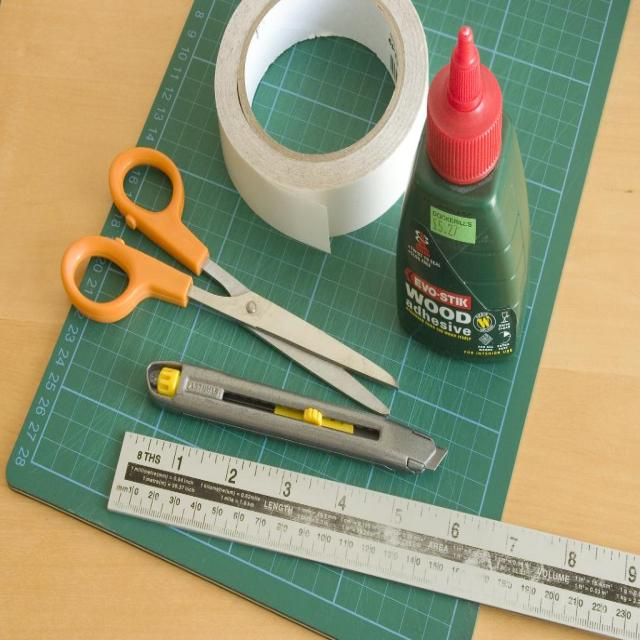scissors: (60, 145, 399, 417)
